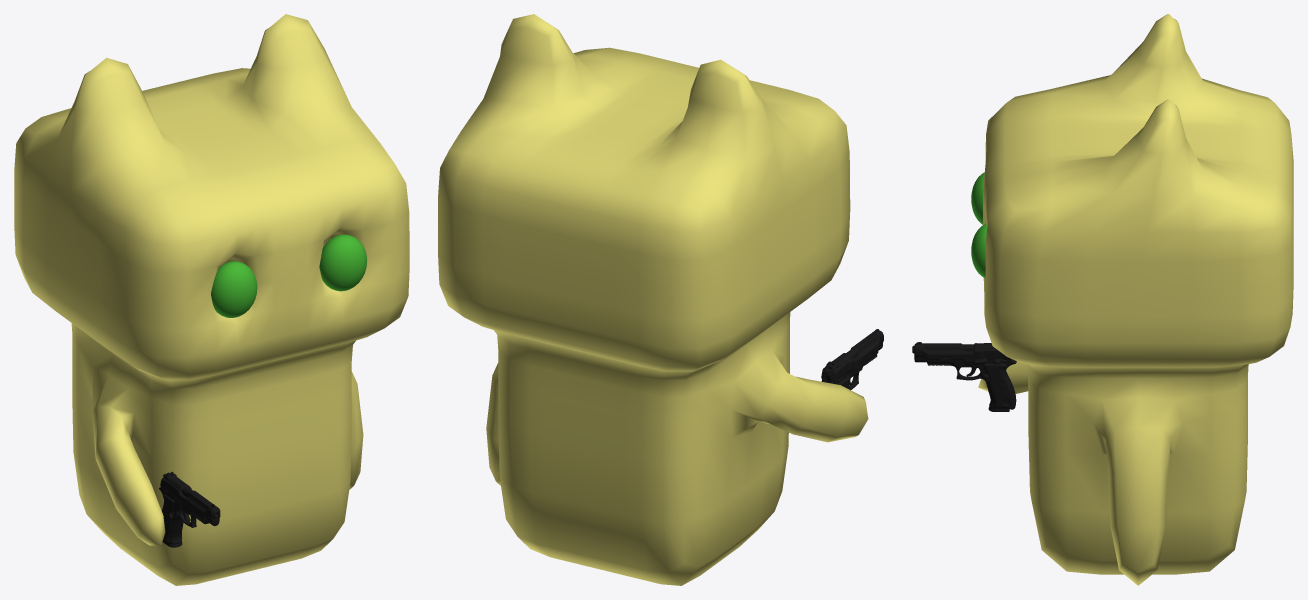
File: игрок.fbx
3 views of the same model, side by side, from view 1: azimuth 30°, elevation 25°; view 2: azimuth 150°, elevation 25°; view 3: azimuth 270°, elevation 25° (orthographic). The views are drawn at different scales.
Parts seen in each view (by area): view 1: Cube, Sphere, tripo_node_93ca2050; view 2: Cube, tripo_node_93ca2050; view 3: Cube, tripo_node_93ca2050, Sphere.
Part boxes in pixels (x1,y1,x2,y2): Cube: (14,14,409,585); Sphere: (211,234,367,317); tripo_node_93ca2050: (159,471,220,547); Cube: (438,14,868,585); tripo_node_93ca2050: (821,329,883,390); Cube: (978,14,1293,585); tripo_node_93ca2050: (912,342,1016,411); Sphere: (971,172,986,277).
Size of the model in its own units: 297 by 489 by 347.
